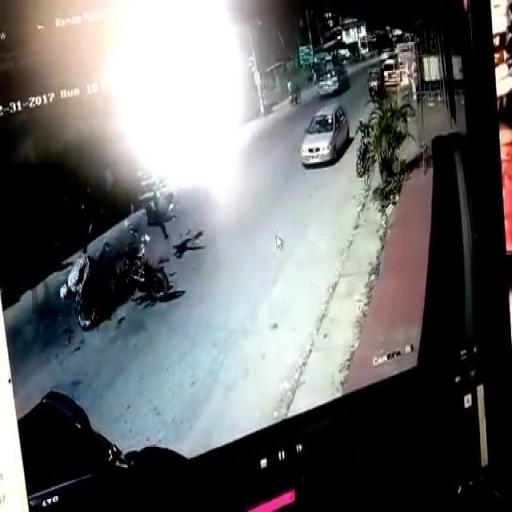小汽车: (302, 100, 351, 163), (318, 67, 347, 91), (368, 72, 386, 100)
自行车: (288, 75, 304, 107)
自行车撞自行车: (65, 224, 179, 326)
